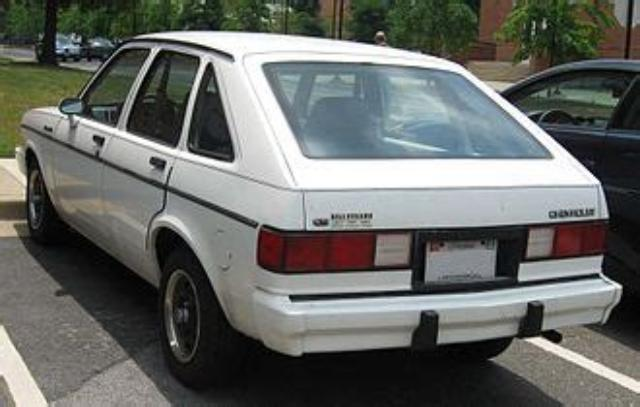chevette-1983: (16, 33, 623, 388)
